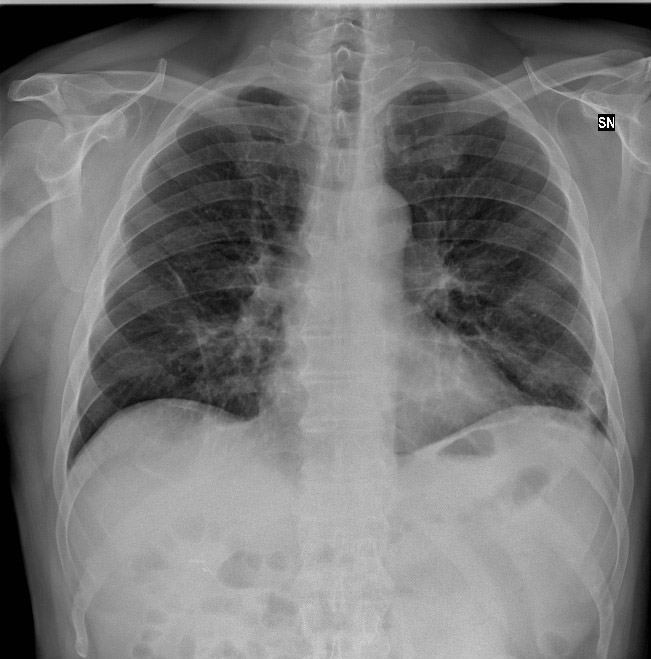Mildw: (67, 73, 319, 463), (379, 83, 612, 446)
